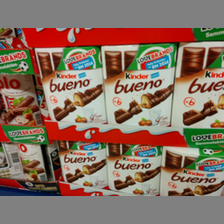chocolate: (35, 45, 108, 125), (101, 45, 174, 125), (172, 44, 224, 129), (160, 147, 224, 197), (55, 139, 108, 189), (106, 144, 159, 194)
